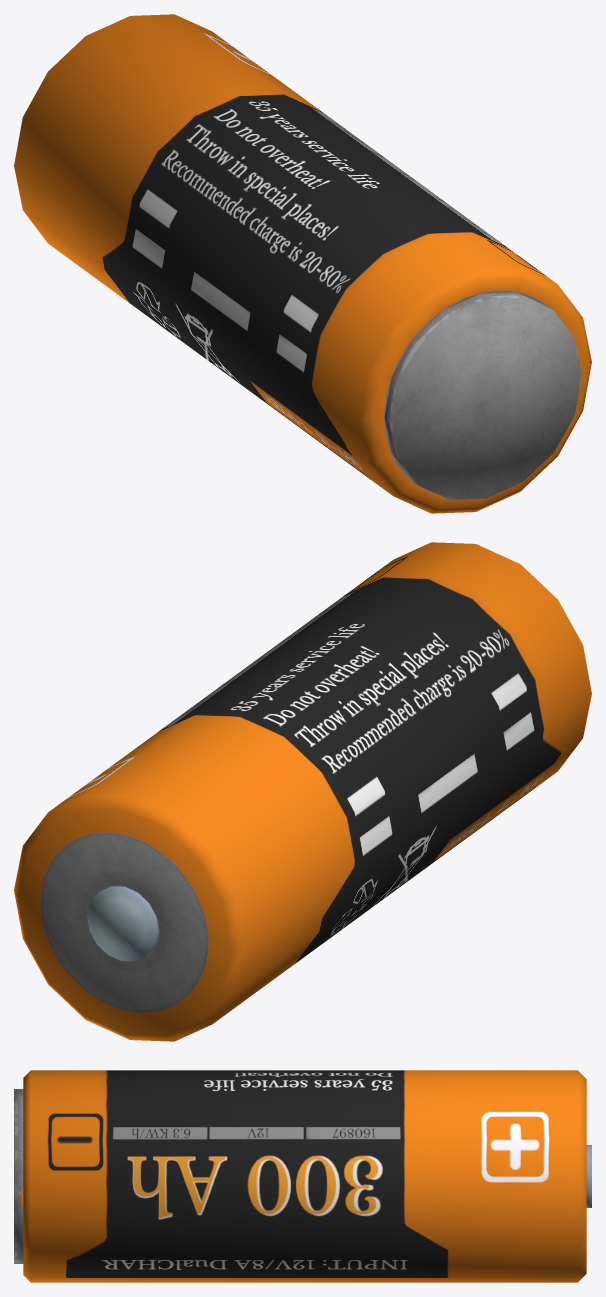
Rendered from battery.obj.
3 views of the same model, one above another, from view 1: azimuth 30°, elevation 25°; view 2: azimuth 150°, elevation 25°; view 3: azimuth 270°, elevation 25° (orthographic). The views are drawn at different scales.
Visible parts, largest first — view 1: Cylinder006__0; view 2: Cylinder006__0; view 3: Cylinder006__0.
Part boxes in pixels (x1,y1,x2,y2): Cylinder006__0: (14,14,591,513); Cylinder006__0: (14,542,591,1041); Cylinder006__0: (14,1070,591,1282).
Size of the model in its own units: 15.4 by 15.4 by 41.92.
